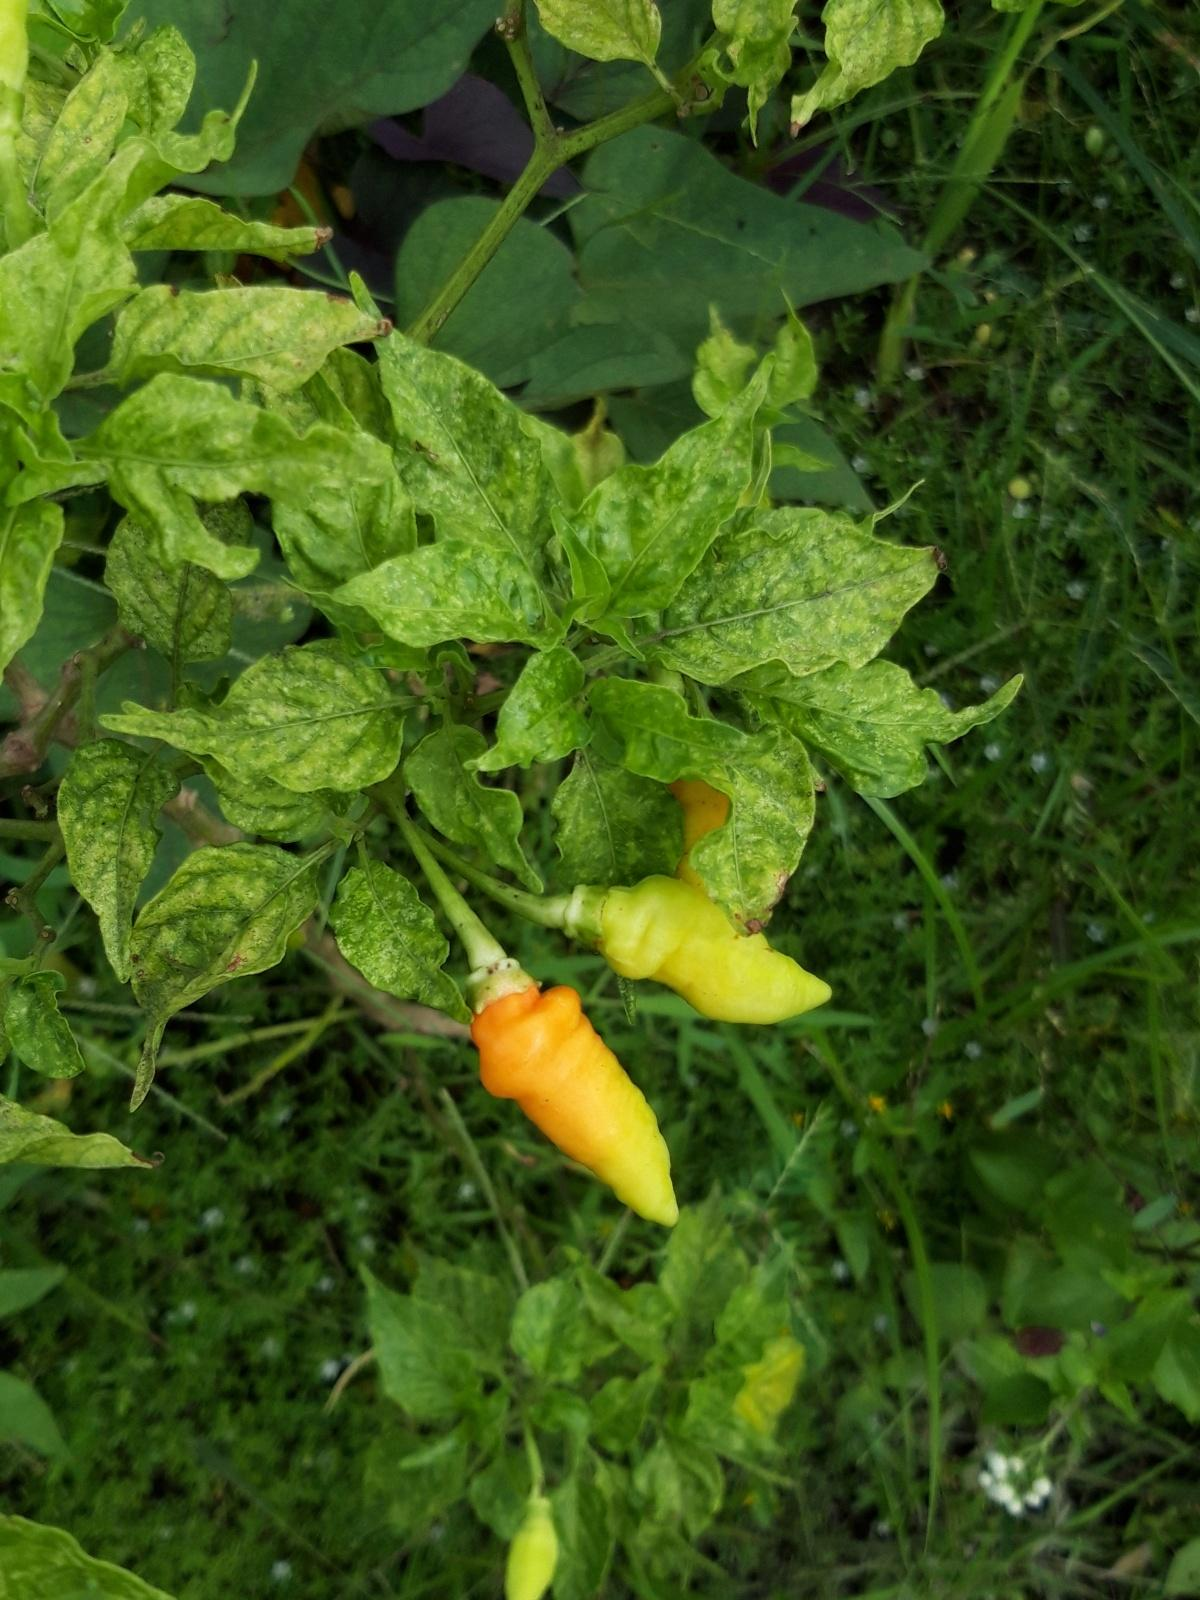cabai_normal: (471, 986, 682, 1230), (603, 872, 833, 1024)
